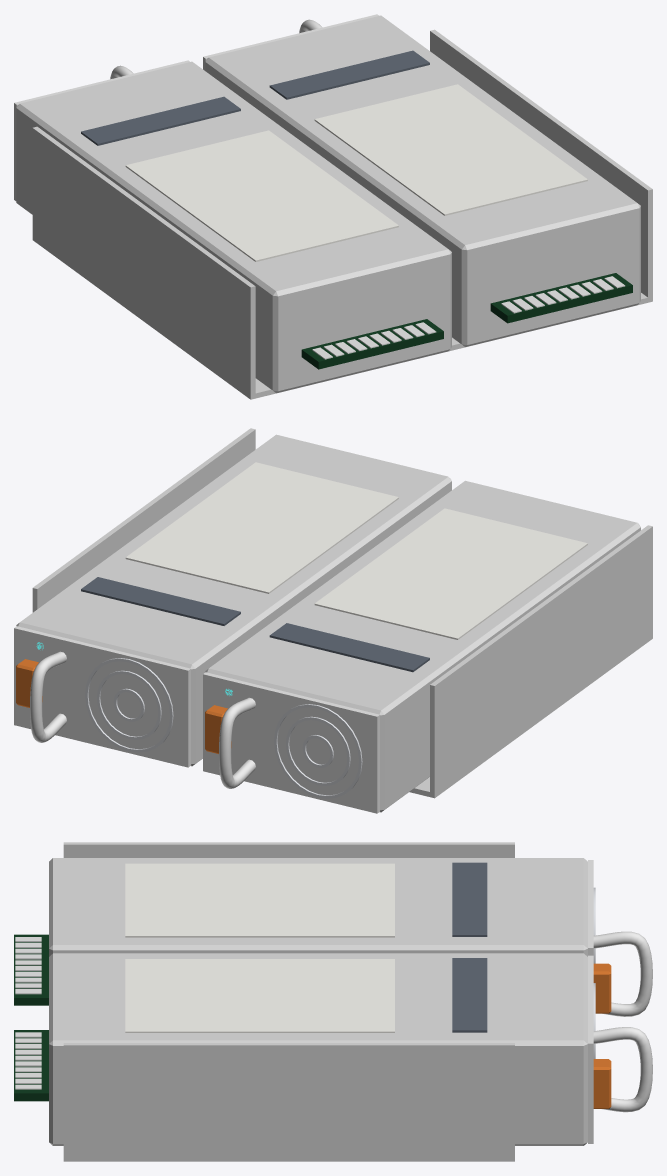
The model's file is hw_psu_2400w_dual.glb.
The picture shows the model from 3 angles, top to bottom: view 1: azimuth 30°, elevation 25°; view 2: azimuth 150°, elevation 25°; view 3: azimuth 270°, elevation 25°; orthographic projection. The views are drawn at different scales.
Visible parts, largest first — view 1: Body; view 2: Body; view 3: Body.
Part boxes in pixels (x1,y1,x2,y2): Body: (14,14,652,399); Body: (14,428,652,813); Body: (14,842,652,1161).
Bounding box in the file's own units: 0.165 × 0.044 × 0.2193.
